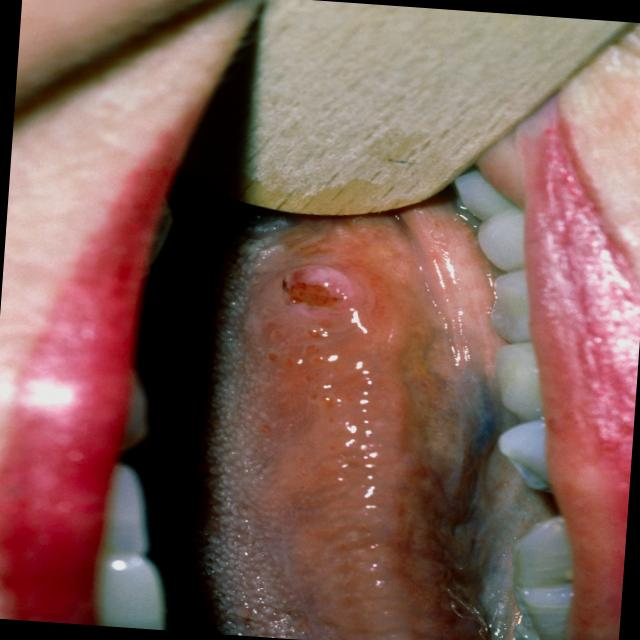Cancer: (214, 210, 497, 640)
